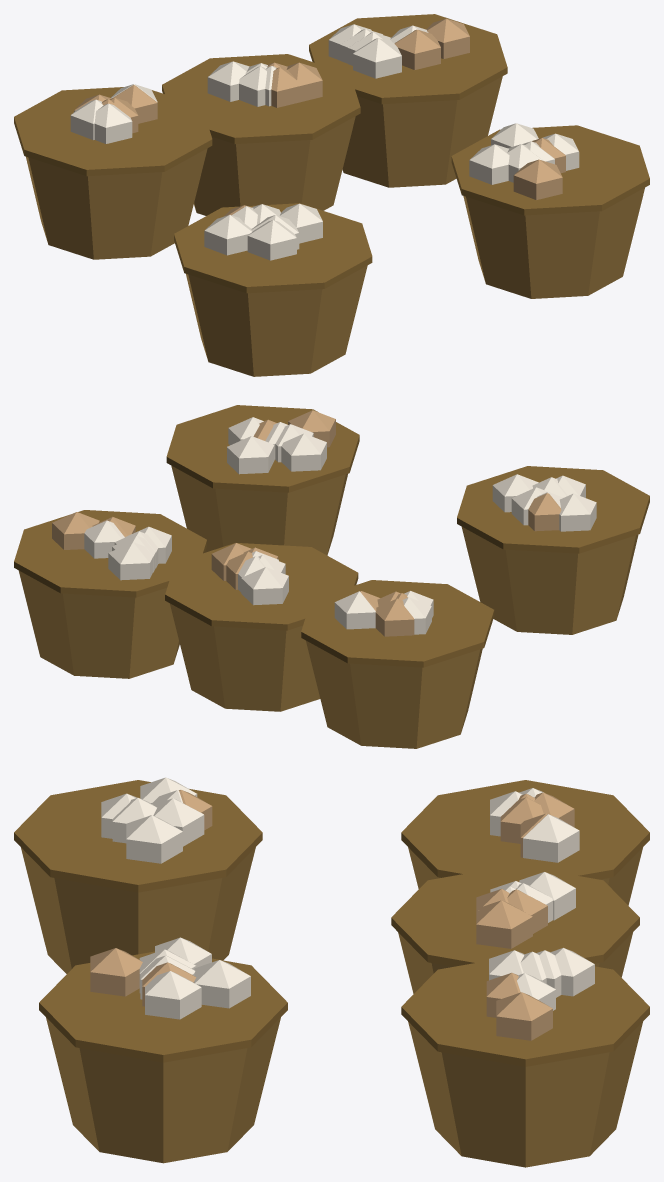
File: pile_eggs_2.glb
3 views of the same model, one above another, from view 1: azimuth 30°, elevation 25°; view 2: azimuth 150°, elevation 25°; view 3: azimuth 270°, elevation 25° (orthographic). The views are drawn at different scales.
Visible parts, largest first — view 1: pile_eggs_2; view 2: pile_eggs_2; view 3: pile_eggs_2.
Part boxes in pixels (bbox=[...]): pile_eggs_2: bbox=[14, 14, 649, 376]; pile_eggs_2: bbox=[14, 405, 649, 748]; pile_eggs_2: bbox=[14, 777, 649, 1167].
Bounding box in the file's own units: 1.31 × 0.348 × 1.26.
